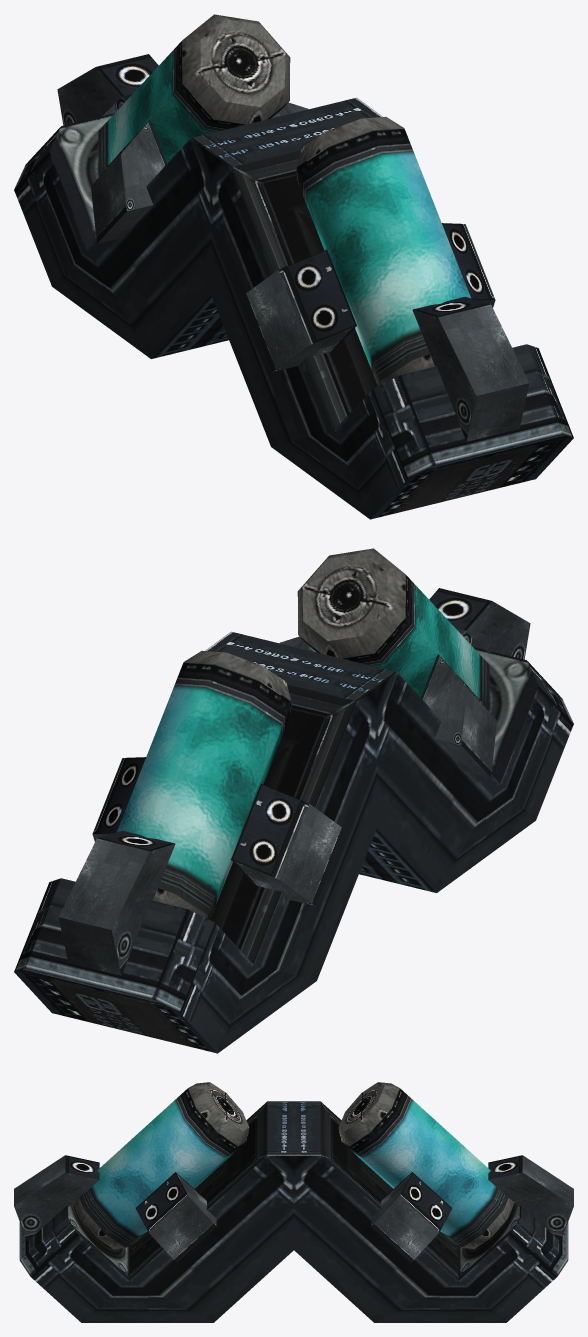
The model's file is Battery_rack01.FBX.
The picture shows the model from 3 angles, top to bottom: view 1: azimuth 30°, elevation 25°; view 2: azimuth 150°, elevation 25°; view 3: azimuth 270°, elevation 25°; orthographic projection. The views are drawn at different scales.
Visible parts, largest first — view 1: Battery_rack01; view 2: Battery_rack01; view 3: Battery_rack01.
Part boxes in pixels (left/top/right/bottom): Battery_rack01: left=14, top=14, right=573, bottom=519; Battery_rack01: left=14, top=548, right=573, bottom=1053; Battery_rack01: left=14, top=1082, right=573, bottom=1322.
Bounding box in the file's own units: 160 × 221 × 535.
